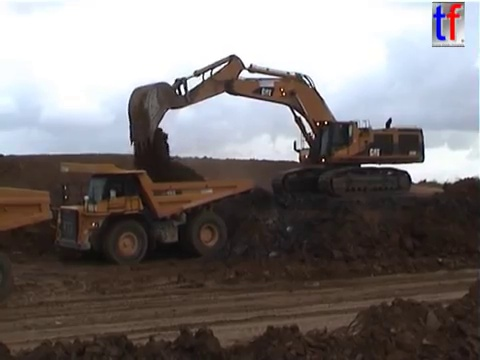excavator: (124, 52, 427, 201)
truck: (53, 159, 257, 265), (1, 183, 53, 302)
